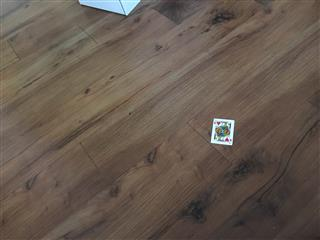JackOfHearts: (209, 117, 235, 146)
